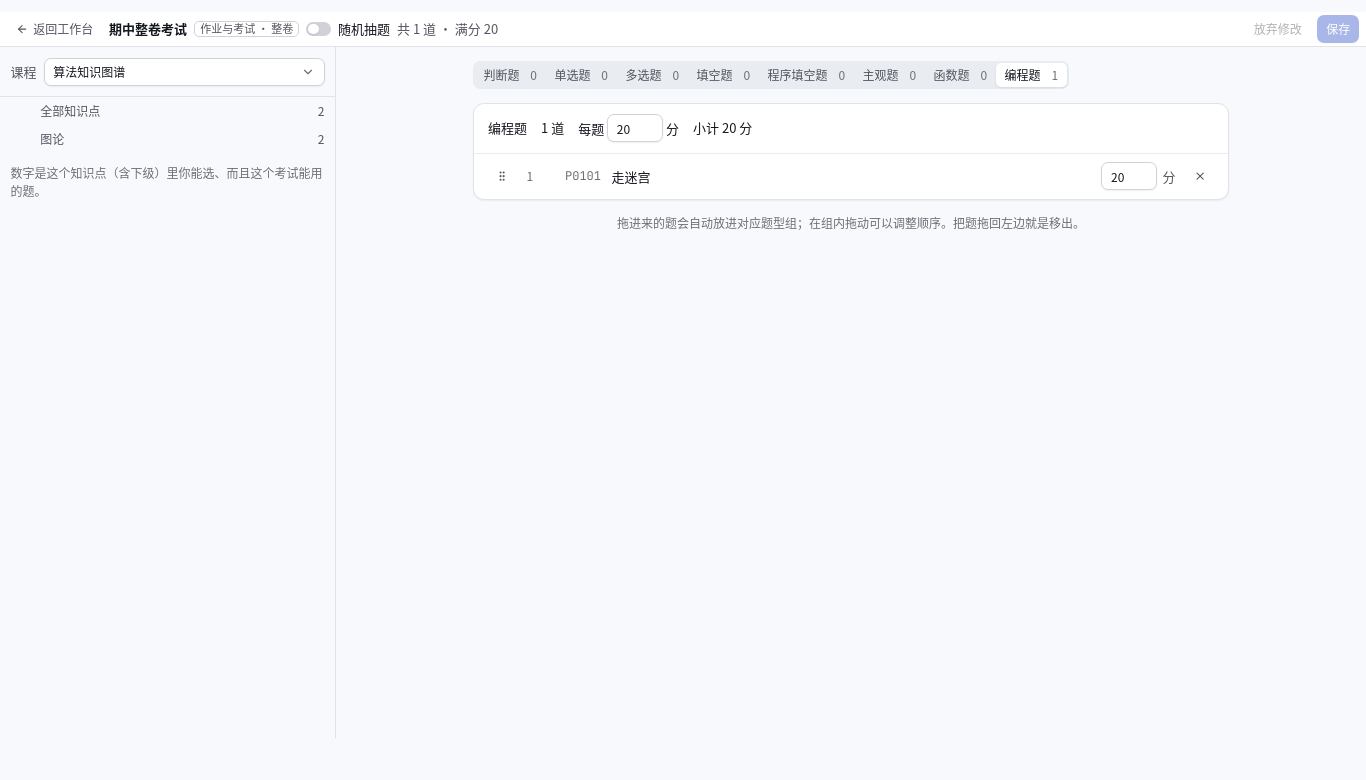
teach compose page › toasts when a single-choice problem lands off the programming tab
Click the button "图论" at (52, 138), box [32,125,314,153]
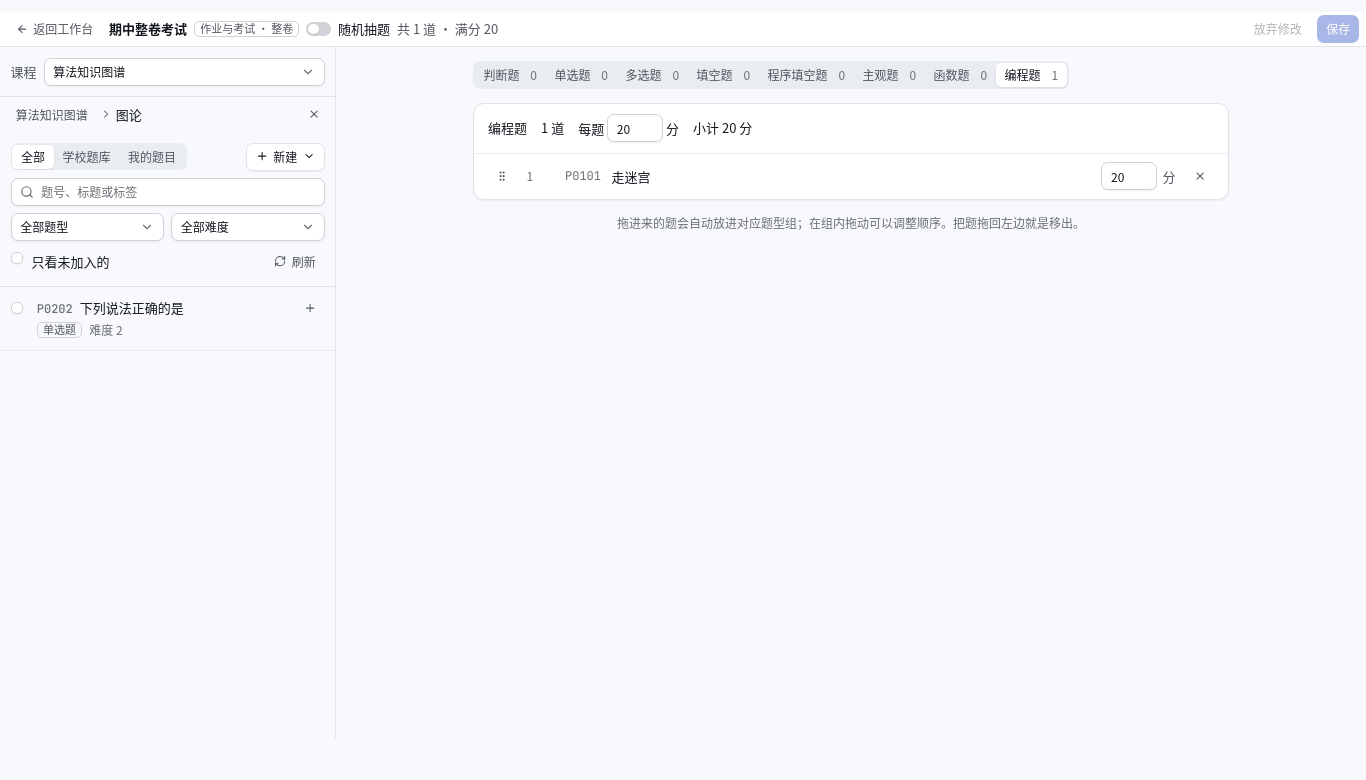
Click the button named "加入 P0202" at (310, 308), box [296,294,324,322]
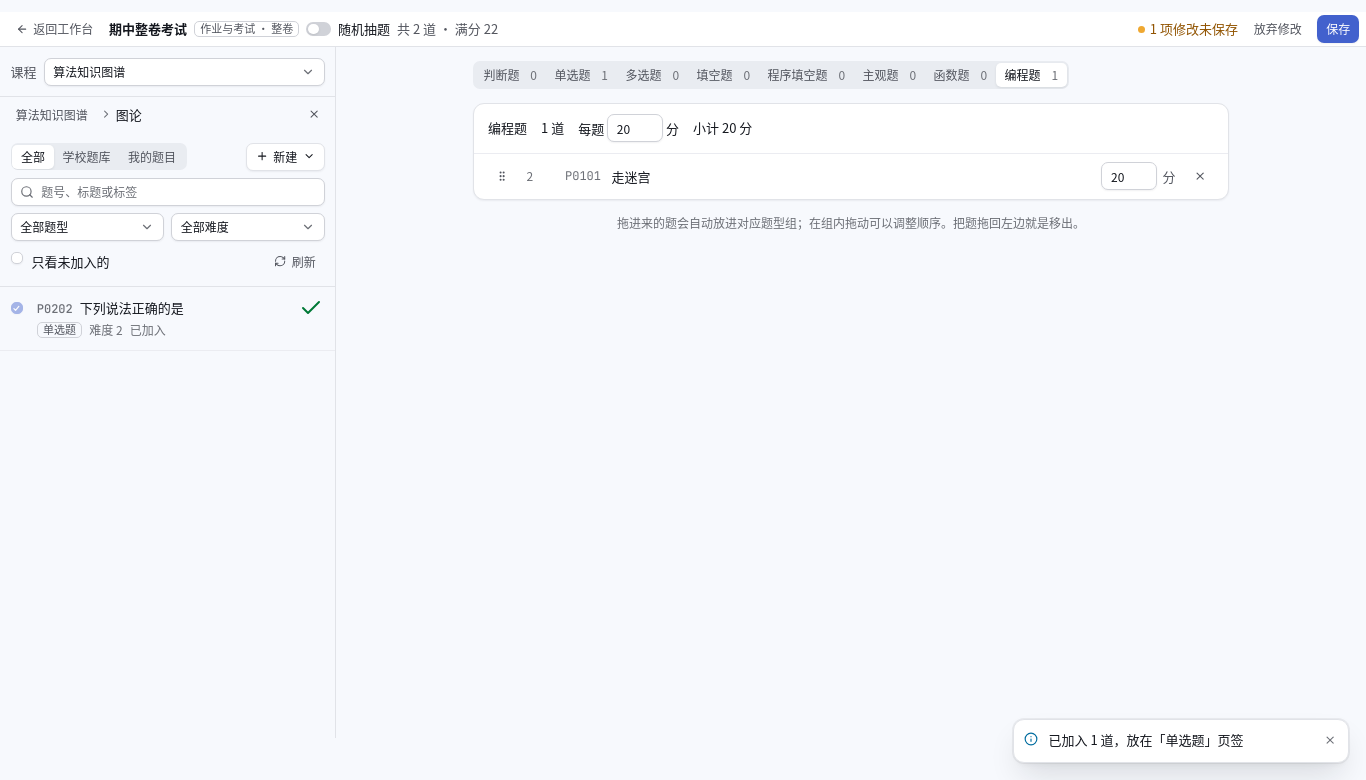
Result: the text "已加入 1 道，放在「单选题」页签" is shown at [1048,730,1244,749]
